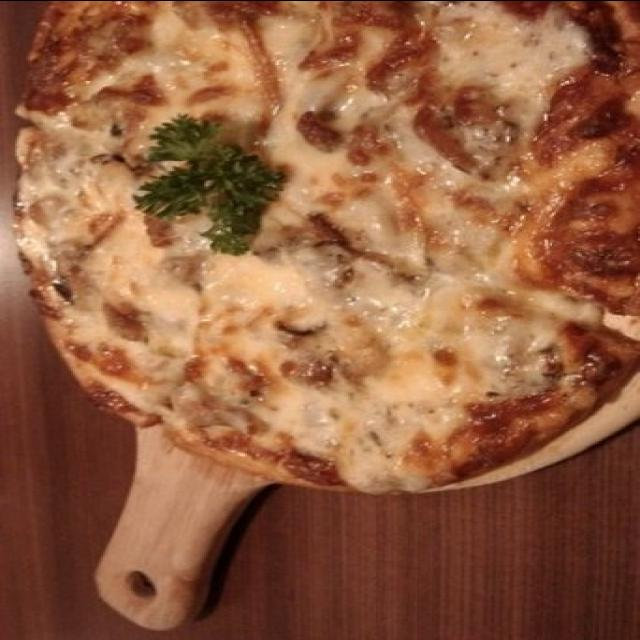pizza: (13, 0, 640, 492)
